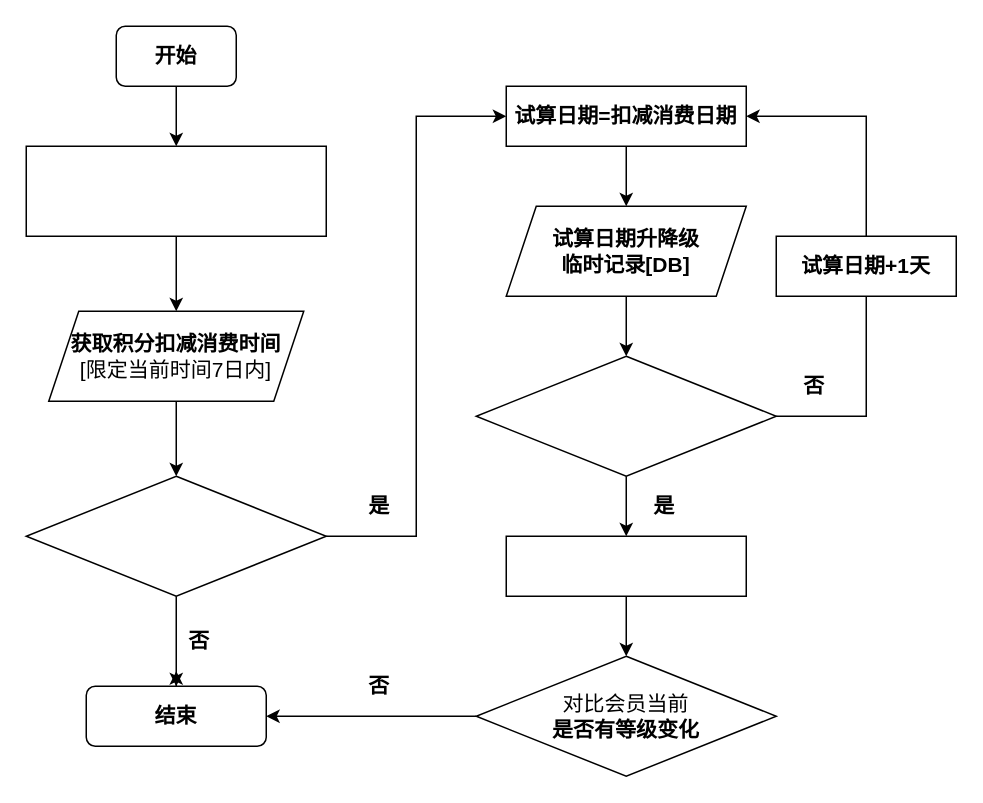
Some shapes in this 983 by 803 pixel diagram are drawn without their labels. Here are the shapes that lost their labels. From the top down, the centre of each, then its label:
At point (175, 190): "当日反向积分数据 [置为无效、退款扣减、调账]".
At point (625, 415): "试算日期 是否为当前日期".
At point (175, 535): "消费时间之后 是否有自动等级变更".
At point (625, 565): "临时记录取最新等级".
